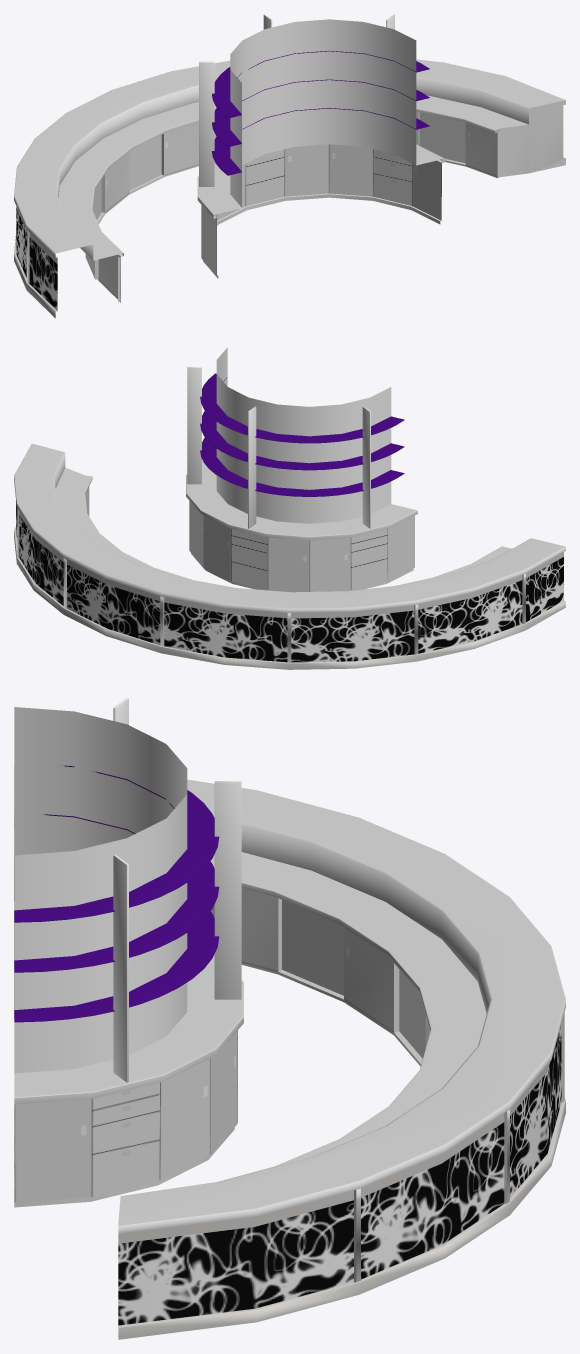
Rendered from Bar04_3.FBX.
The picture shows the model from 3 angles, top to bottom: view 1: azimuth 30°, elevation 25°; view 2: azimuth 150°, elevation 25°; view 3: azimuth 270°, elevation 25°; orthographic projection. The views are drawn at different scales.
Parts seen in each view (by area): view 1: Bar04_3, Bar04Rack, Bar04Glass; view 2: Bar04_3, Bar04Rack, Bar04Glass; view 3: Bar04_3, Bar04Rack, Bar04Glass.
Boxes of the visible parts, box(x1,y1,x2,y2) form: Bar04_3: box(14, 59, 565, 318); Bar04Rack: box(197, 14, 444, 278); Bar04Glass: box(212, 50, 429, 175); Bar04_3: box(14, 443, 565, 669); Bar04Rack: box(186, 347, 417, 592); Bar04Glass: box(200, 373, 404, 496); Bar04_3: box(14, 766, 565, 1339); Bar04Rack: box(14, 698, 243, 1207); Bar04Glass: box(14, 765, 219, 1022).
Bounding box in the file's own units: 1043 × 350 × 529.
